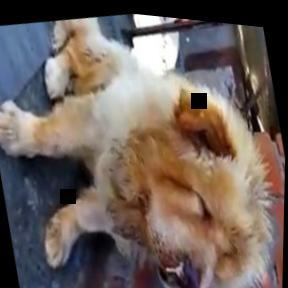nasal_discharge: (158, 247, 206, 288)
